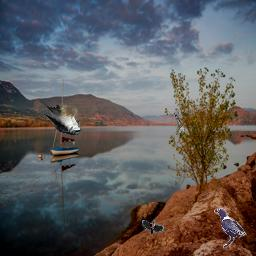Crow: (214, 208, 247, 248)
Cuckoo: (174, 111, 184, 134)
Swallow: (43, 105, 83, 135)
Woodpecker: (142, 220, 164, 234)
